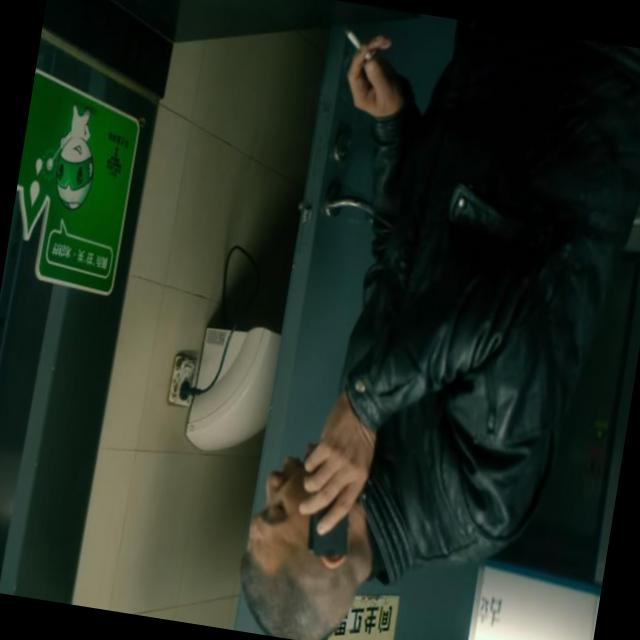cigarette: (338, 24, 379, 66)
